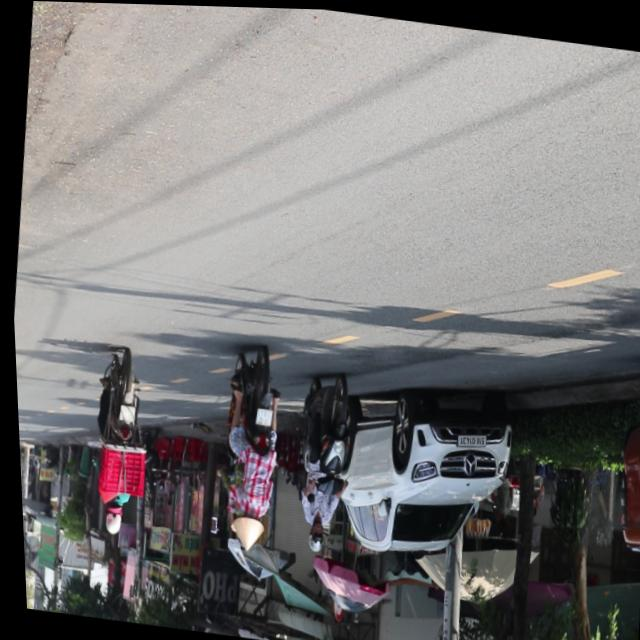helmet: (97, 501, 119, 535), (302, 519, 321, 551)
licenseplate: (204, 340, 290, 555), (75, 344, 156, 539), (282, 368, 357, 555)
motorcyclist: (220, 507, 259, 553)
nohelmet: (250, 405, 269, 424), (114, 403, 132, 423)
